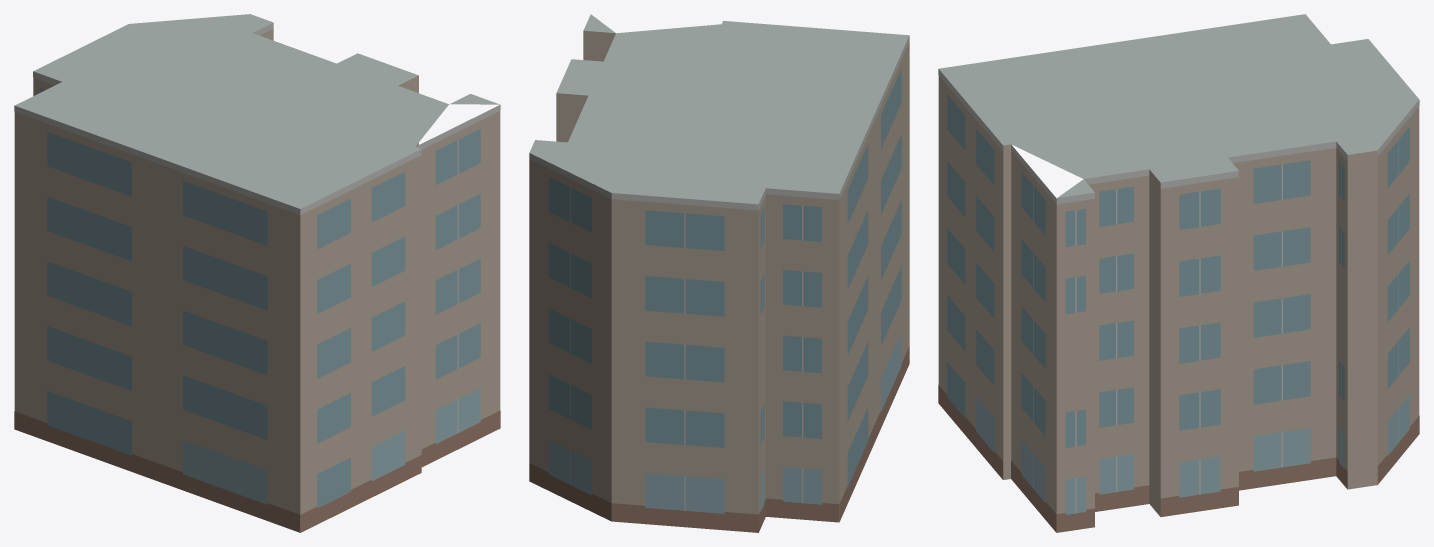
The model's file is survey-upis-32968842.glb.
The picture shows the model from 3 angles, left to right: view 1: azimuth 30°, elevation 25°; view 2: azimuth 150°, elevation 25°; view 3: azimuth 270°, elevation 25°; orthographic projection. The views are drawn at different scales.
Parts seen in each view (by area): view 1: survey-upis-32968842.tmp; view 2: survey-upis-32968842.tmp; view 3: survey-upis-32968842.tmp.
Boxes of the visible parts, left/top/right/bottom form: survey-upis-32968842.tmp: left=14, top=14, right=500, bottom=532; survey-upis-32968842.tmp: left=529, top=14, right=909, bottom=532; survey-upis-32968842.tmp: left=938, top=14, right=1419, bottom=532.
Size of the model in its own units: 15.37 by 13 by 16.94.
